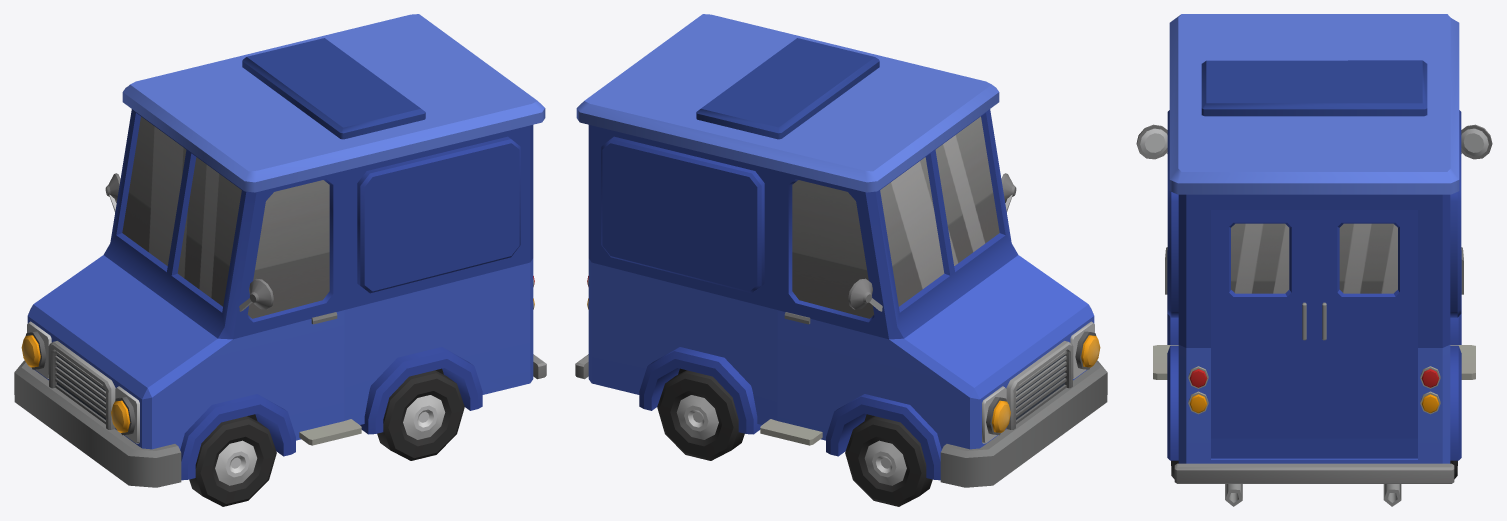
The model's file is Car_14_B.gltf.
The picture shows the model from 3 angles, left to right: view 1: azimuth 30°, elevation 25°; view 2: azimuth 150°, elevation 25°; view 3: azimuth 270°, elevation 25°; orthographic projection. The views are drawn at different scales.
Visible parts, largest first — view 1: Car_14_B, RL, FL; view 2: Car_14_B, RR, FR; view 3: Car_14_B.
Part boxes in pixels (x1,y1,x2,y2): Car_14_B: (14, 14, 546, 487); RL: (377, 370, 464, 460); FL: (189, 416, 276, 506); Car_14_B: (575, 14, 1107, 487); RR: (657, 370, 744, 460); FR: (845, 416, 932, 506); Car_14_B: (1136, 14, 1492, 506).
Bounding box in the file's own units: 2.75 × 2.1 × 1.8.
4 materials, 4 textured.
